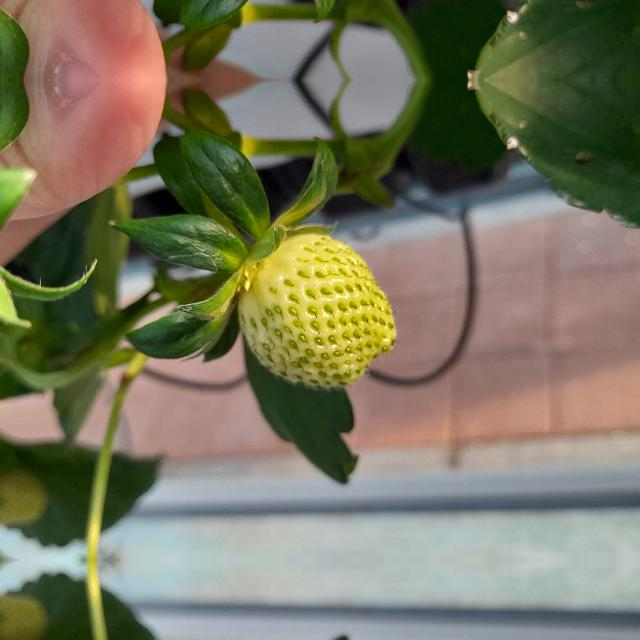Health_25: (238, 233, 396, 387)
